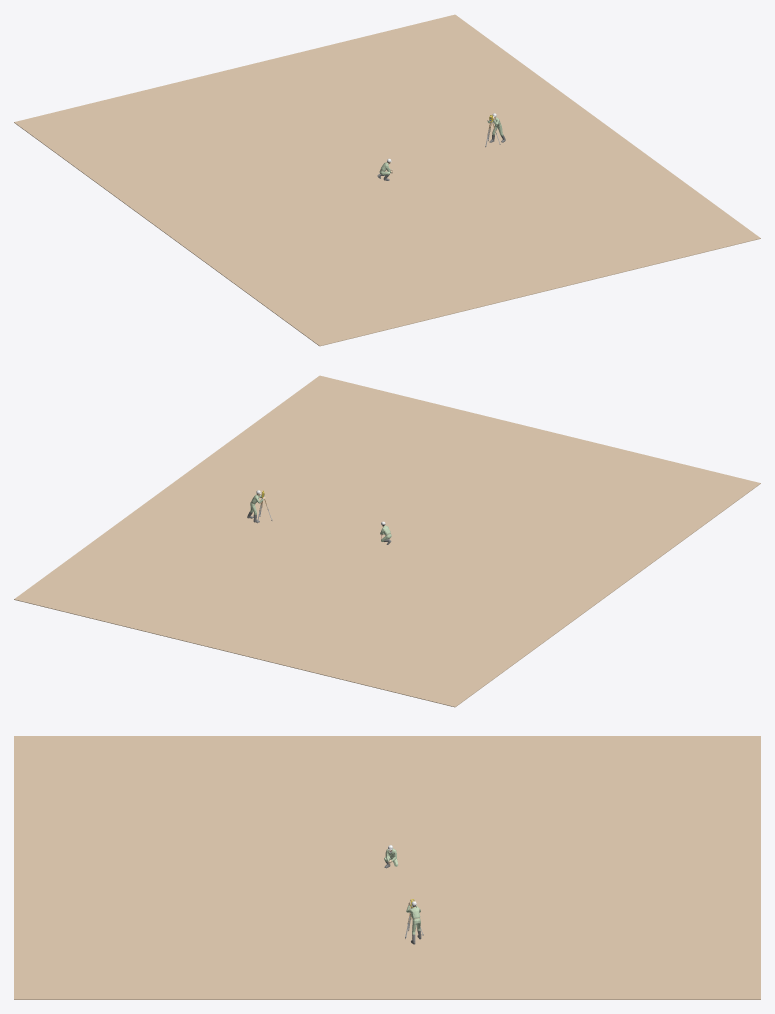
File: asset.glb
The picture shows the model from 3 angles, top to bottom: view 1: azimuth 30°, elevation 25°; view 2: azimuth 150°, elevation 25°; view 3: azimuth 270°, elevation 25°; orthographic projection. The views are drawn at different scales.
Parts seen in each view (by area): view 1: #00_Surface EG; view 2: #00_Surface EG; view 3: #00_Surface EG.
Boxes of the visible parts, box(x1,y1,x2,y2) form: #00_Surface EG: box(14, 14, 760, 346); #00_Surface EG: box(14, 375, 760, 707); #00_Surface EG: box(14, 736, 760, 999).
Bounding box in the file's own units: 25 × 2.63 × 30.
